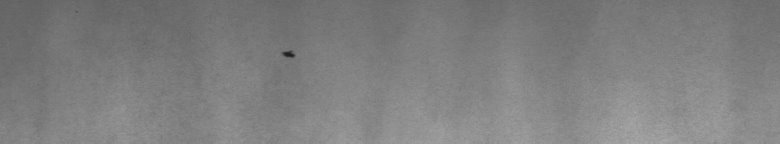fi: (277, 44, 299, 64)
